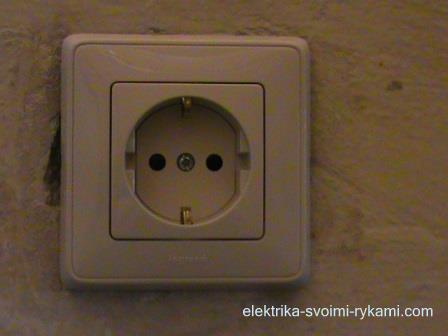raccoon: (122, 89, 253, 231)
